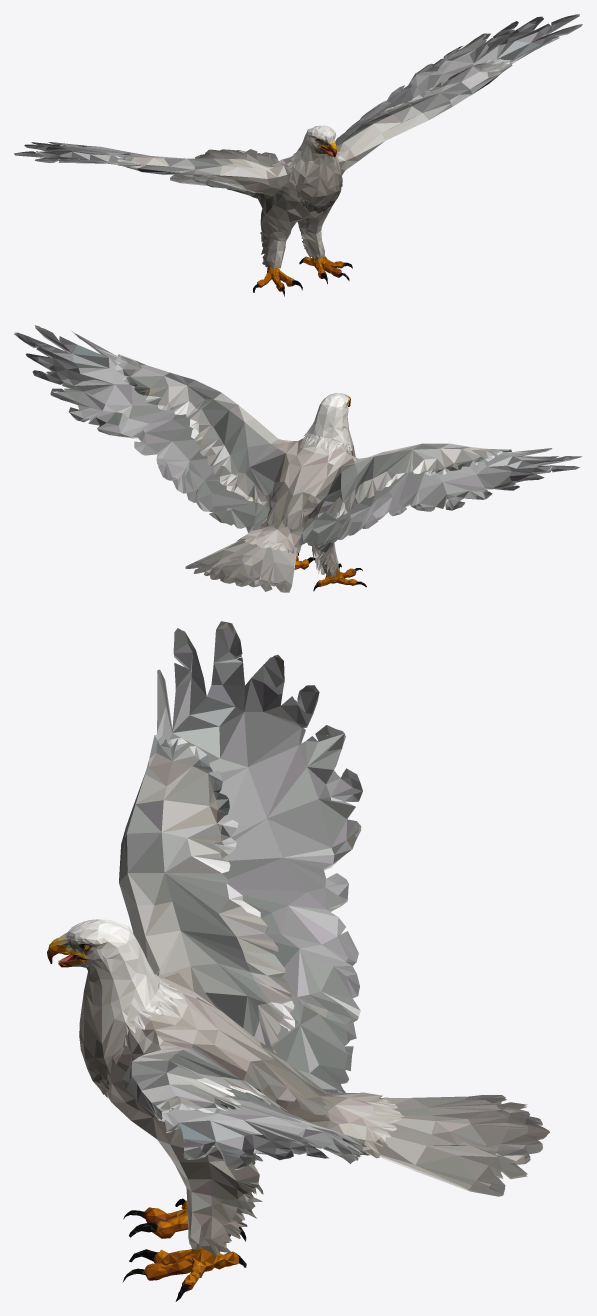
File: WhiteEagle_moreUpper.obj
The picture shows the model from 3 angles, top to bottom: view 1: azimuth 30°, elevation 25°; view 2: azimuth 150°, elevation 25°; view 3: azimuth 270°, elevation 25°; orthographic projection. The views are drawn at different scales.
Parts seen in each view (by area): view 1: Eagle; view 2: Eagle; view 3: Eagle.
Boxes of the visible parts, box(x1,y1,x2,y2) form: Eagle: box(14, 14, 582, 296); Eagle: box(14, 325, 582, 592); Eagle: box(47, 621, 549, 1301).
Bounding box in the file's own units: 50.34 × 15.79 × 19.5.
1 material, 1 textured.
